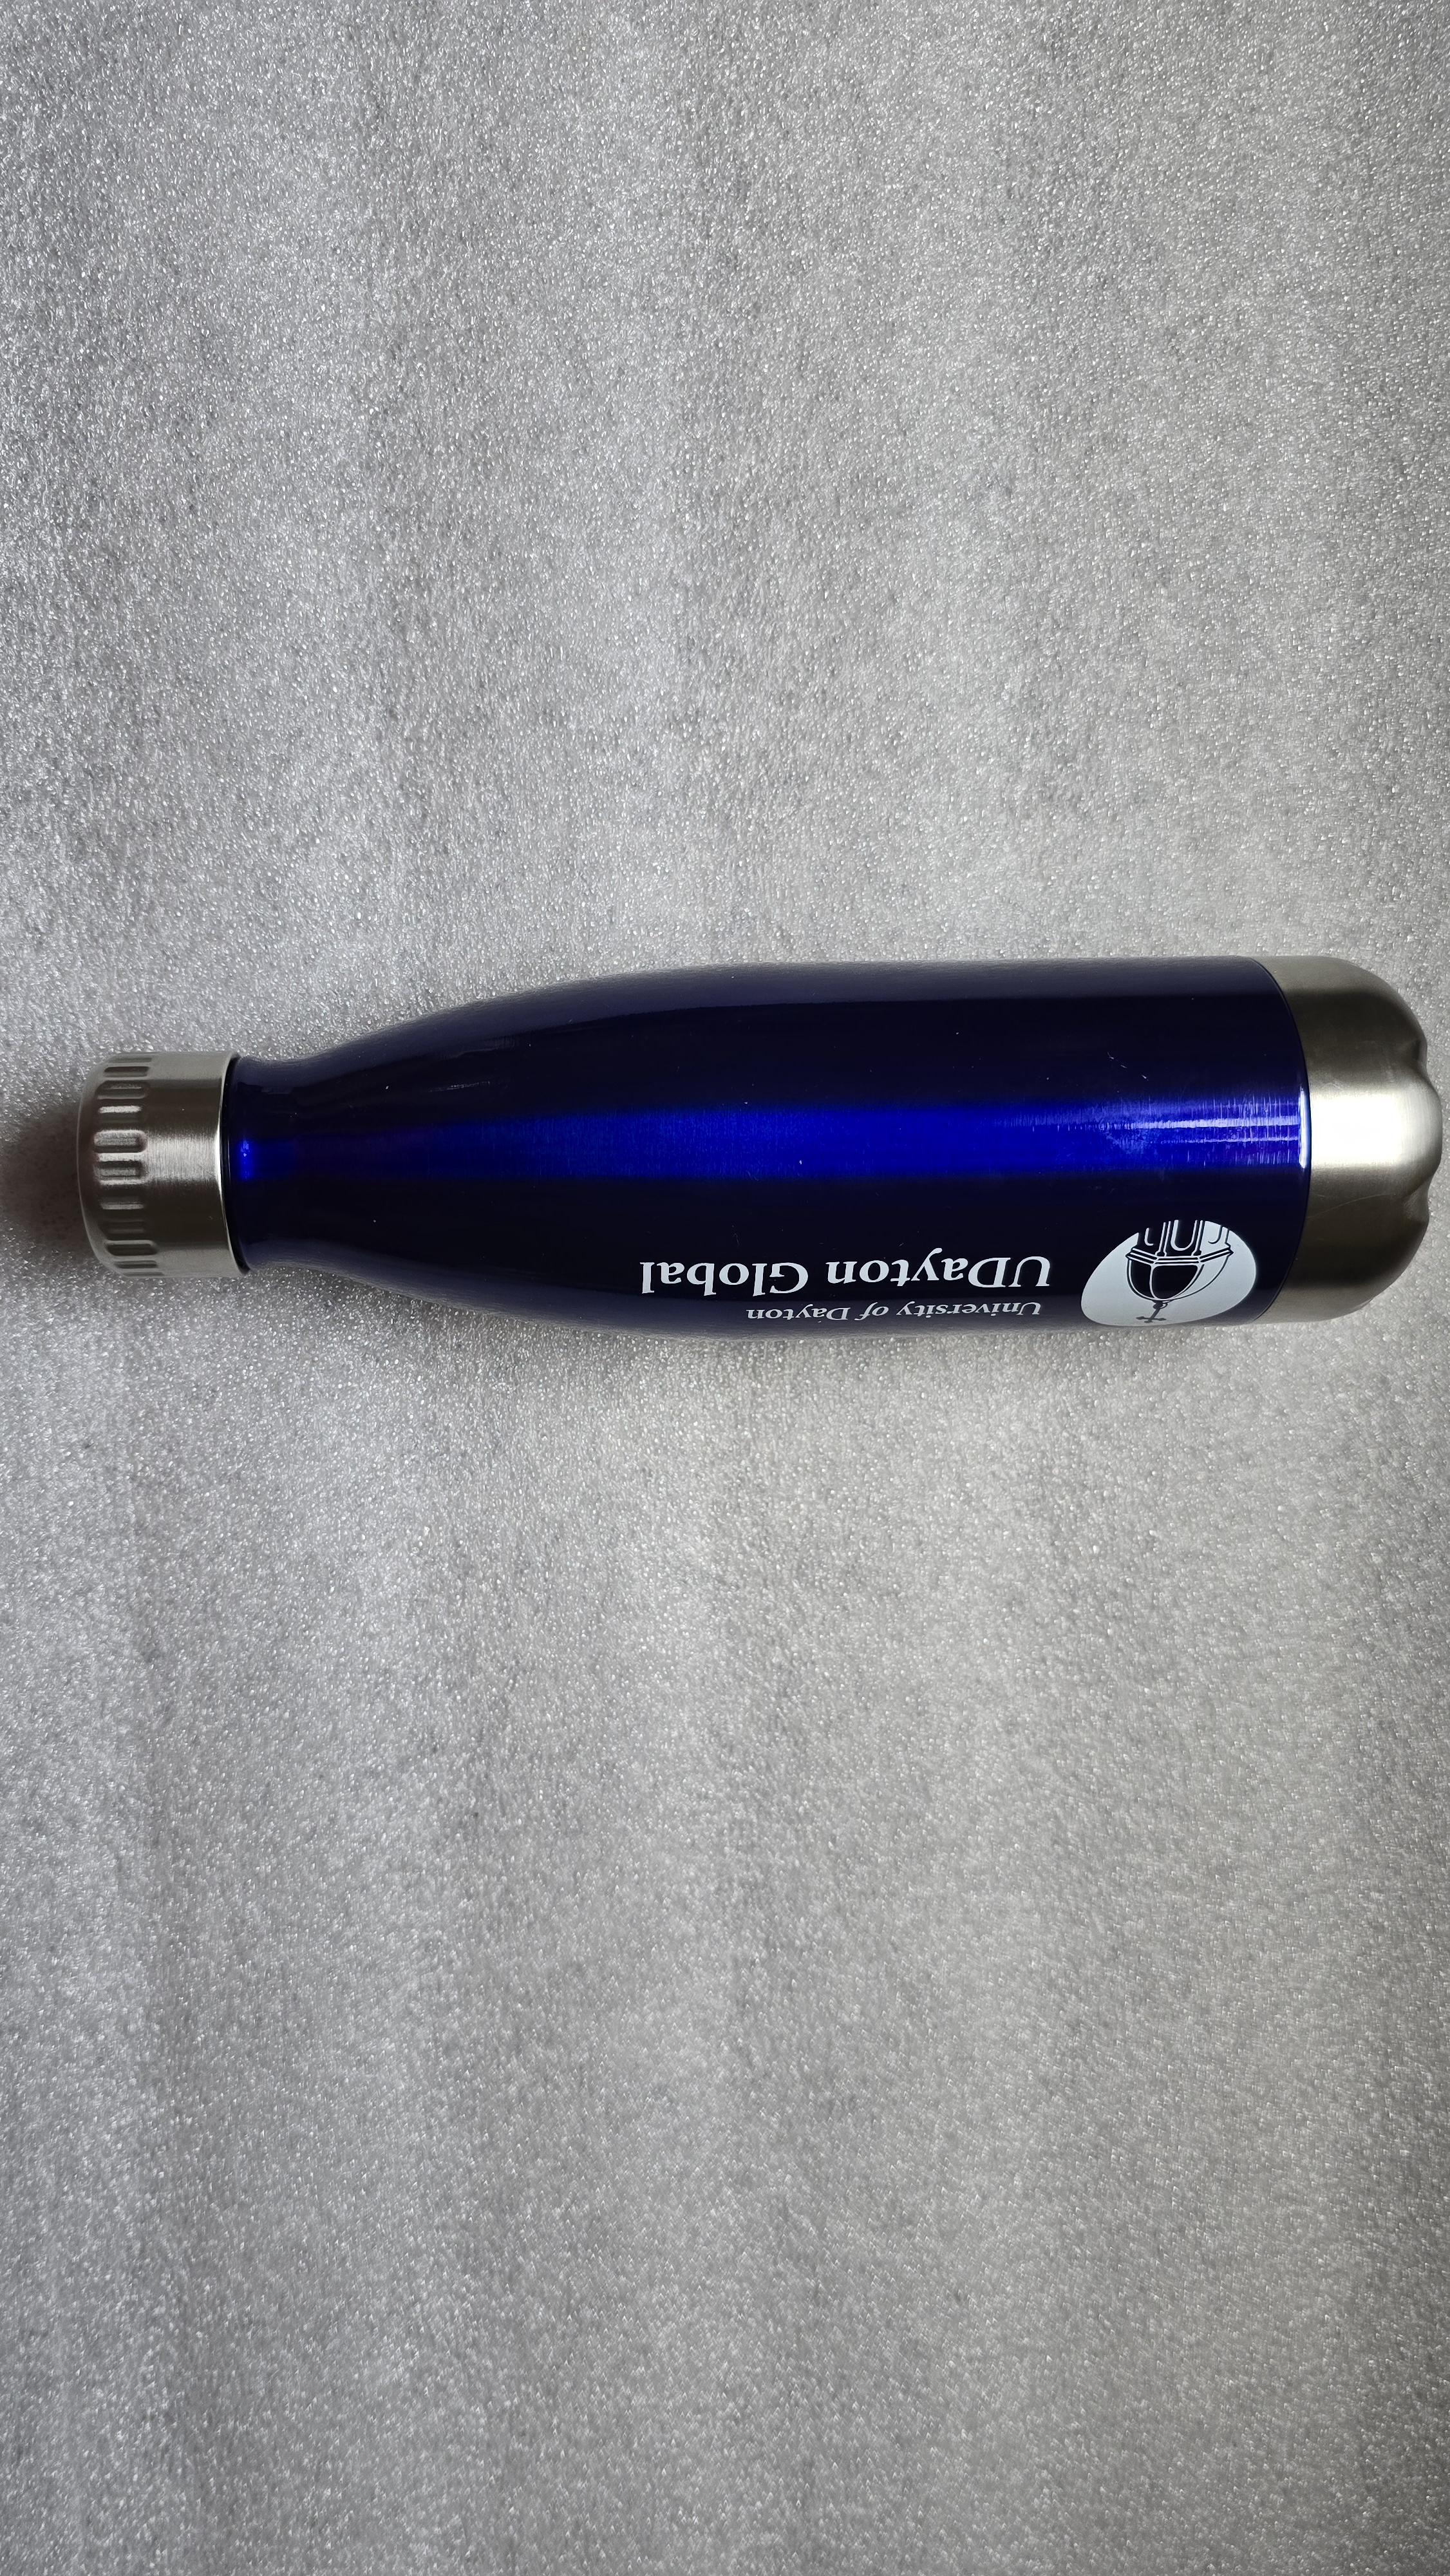bottle: (55, 931, 1450, 1363)
